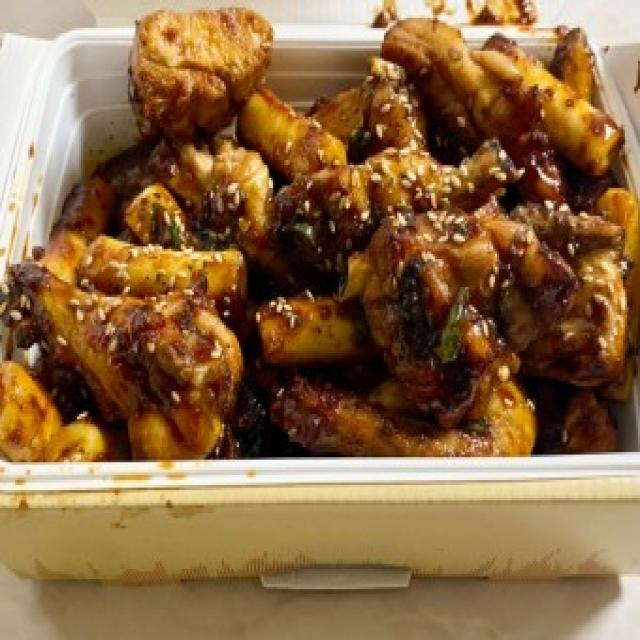Frango: (13, 5, 640, 480)
